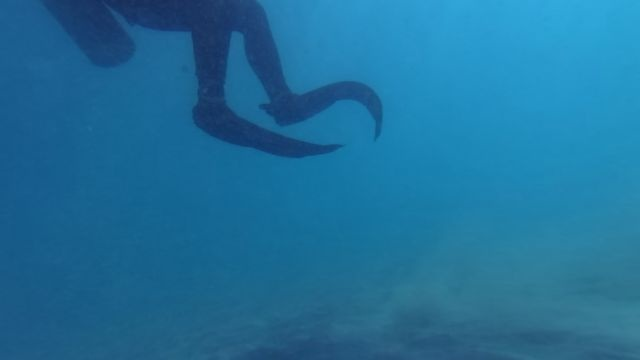Diver: (30, 2, 439, 186)
